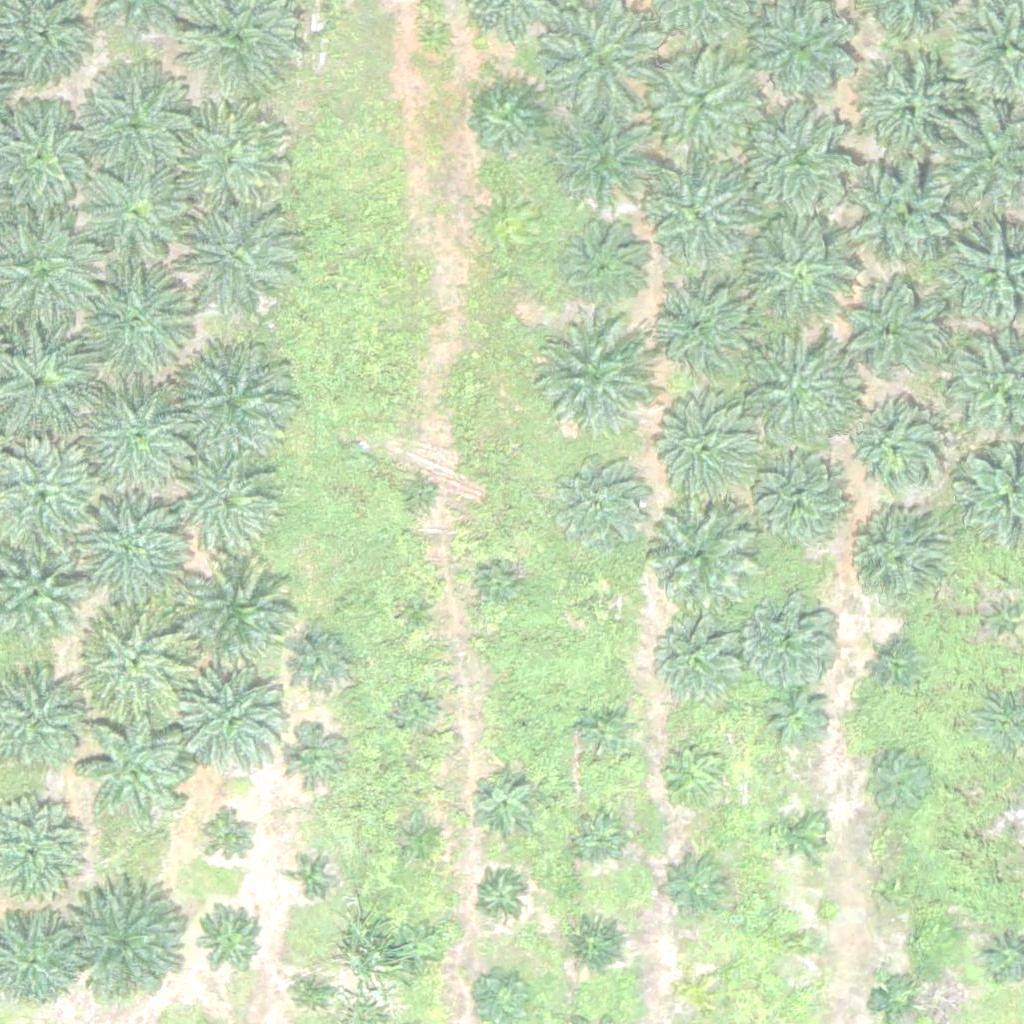Kelapa_Sawit: (74, 60, 199, 186), (168, 98, 293, 224), (67, 495, 192, 621), (75, 381, 200, 507), (70, 260, 195, 386), (172, 198, 297, 324), (168, 343, 293, 469), (179, 563, 304, 689), (528, 314, 653, 440), (740, 329, 865, 454), (69, 883, 194, 1008), (856, 57, 969, 170), (639, 497, 752, 610), (743, 102, 856, 215), (743, 215, 856, 328), (841, 153, 954, 266), (81, 710, 194, 823), (648, 53, 760, 166), (549, 104, 661, 217), (644, 160, 756, 273), (646, 393, 758, 506), (178, 670, 290, 783), (82, 605, 194, 718), (179, 458, 279, 559), (549, 453, 649, 554), (652, 281, 752, 382), (750, 453, 850, 554), (840, 281, 940, 382), (842, 398, 942, 499), (840, 511, 940, 612), (745, 588, 845, 689), (86, 168, 186, 268), (561, 218, 648, 306), (658, 621, 745, 709), (470, 83, 545, 159), (193, 899, 268, 974), (859, 744, 934, 819), (280, 726, 343, 789), (290, 628, 353, 691), (664, 856, 727, 919), (563, 911, 626, 974), (573, 701, 636, 764), (470, 770, 532, 833), (766, 683, 828, 746), (664, 746, 726, 809), (207, 816, 257, 867), (772, 806, 822, 857), (395, 925, 445, 976), (477, 872, 527, 922), (571, 813, 621, 863), (879, 874, 917, 912), (395, 692, 433, 730), (399, 594, 437, 632), (400, 475, 438, 513), (402, 818, 440, 856), (877, 650, 915, 687), (585, 588, 623, 625), (481, 568, 518, 606), (293, 863, 330, 900), (297, 973, 334, 1010), (790, 927, 815, 952), (685, 981, 710, 1006), (512, 718, 537, 743)
